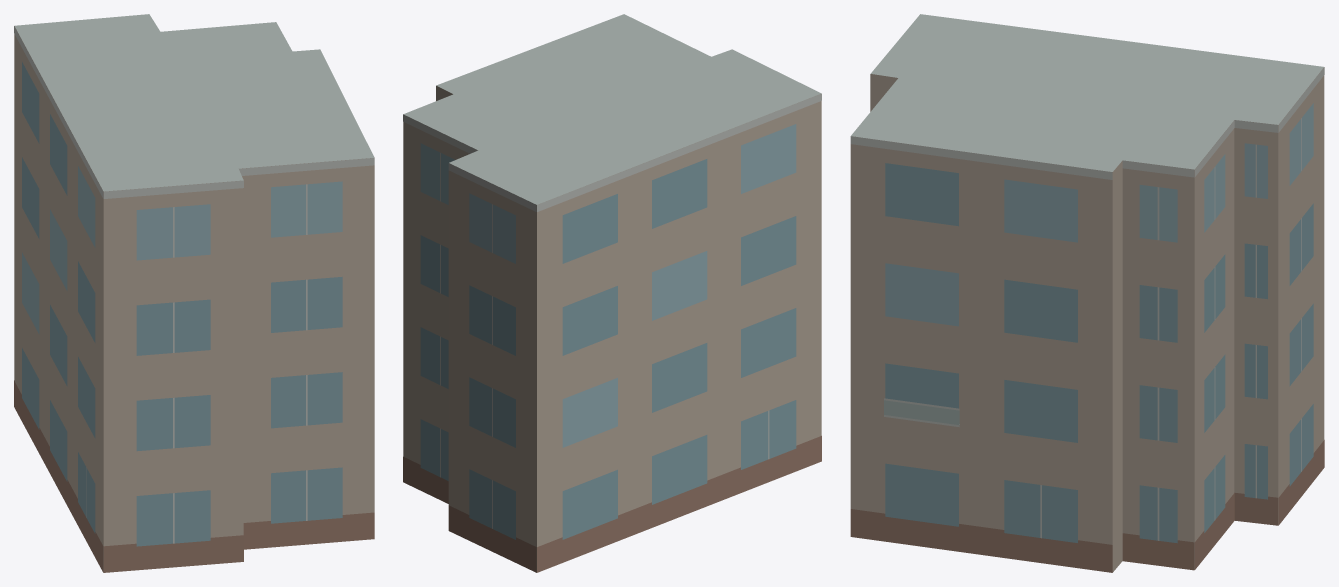
File: survey-upis-32724437.glb
3 views of the same model, side by side, from view 1: azimuth 30°, elevation 25°; view 2: azimuth 150°, elevation 25°; view 3: azimuth 270°, elevation 25° (orthographic). The views are drawn at different scales.
Visible parts, largest first — view 1: survey-upis-32724437.tmp; view 2: survey-upis-32724437.tmp; view 3: survey-upis-32724437.tmp.
Part boxes in pixels (<box>): survey-upis-32724437.tmp: <box>14,14,374,572</box>; survey-upis-32724437.tmp: <box>403,14,821,572</box>; survey-upis-32724437.tmp: <box>850,14,1324,572</box>.
Size of the model in its own units: 10.33 by 12.2 by 13.08.
